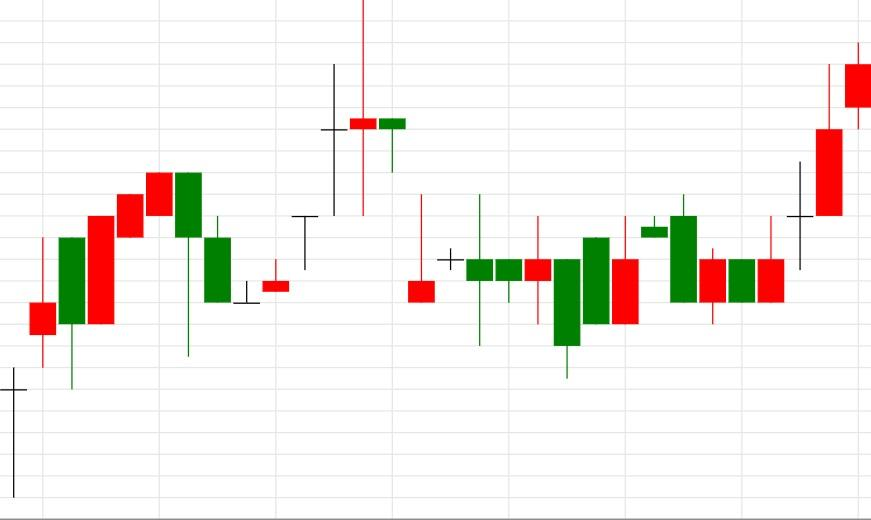bearish_engulfing_fall: (0, 172, 203, 498)
inverse_hammer_rise: (349, 0, 436, 303)
